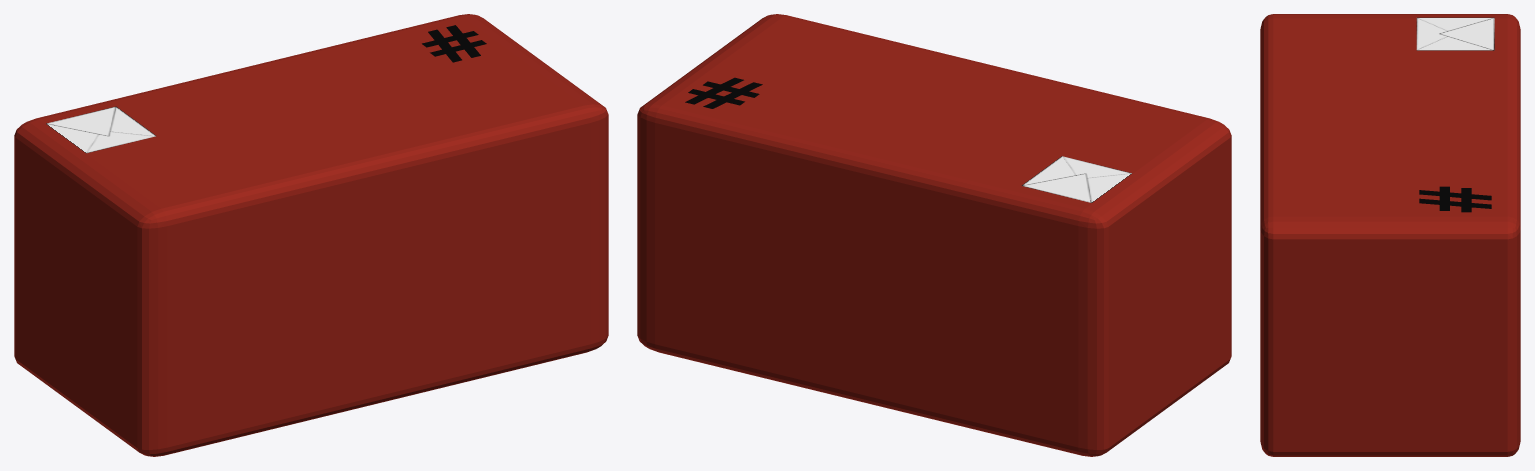
The model's file is Message_Highlight_Hashtag.dae.
3 renders of one model, left to right at view 1: azimuth 30°, elevation 25°; view 2: azimuth 150°, elevation 25°; view 3: azimuth 270°, elevation 25°, orthographic. The views are drawn at different scales.
Visible parts, largest first — view 1: Cube, Plane, Plane_001; view 2: Cube, Plane, Plane_001; view 3: Cube, Plane, Plane_001.
Part boxes in pixels (left/top/right/bottom): Cube: left=14, top=14, right=608, bottom=456; Plane: left=46, top=106, right=156, bottom=153; Plane_001: left=422, top=25, right=486, bottom=62; Cube: left=637, top=14, right=1231, bottom=456; Plane: left=1021, top=156, right=1131, bottom=202; Plane_001: left=685, top=77, right=762, bottom=108; Cube: left=1260, top=14, right=1520, bottom=456; Plane: left=1416, top=17, right=1494, bottom=50; Plane_001: left=1419, top=186, right=1491, bottom=212.
Size of the model in its own units: 2 by 1 by 1.
